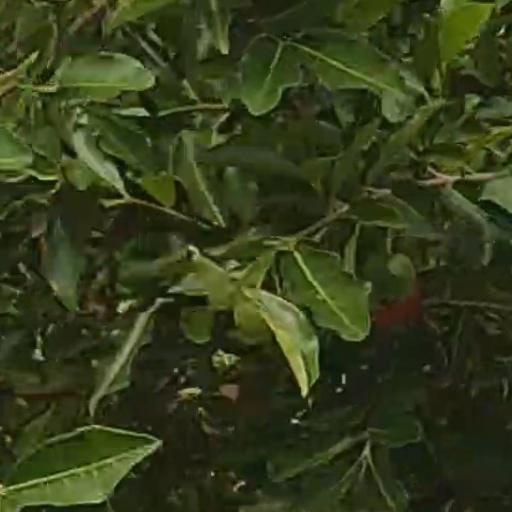acerola_vermelha: (379, 291, 418, 326)
